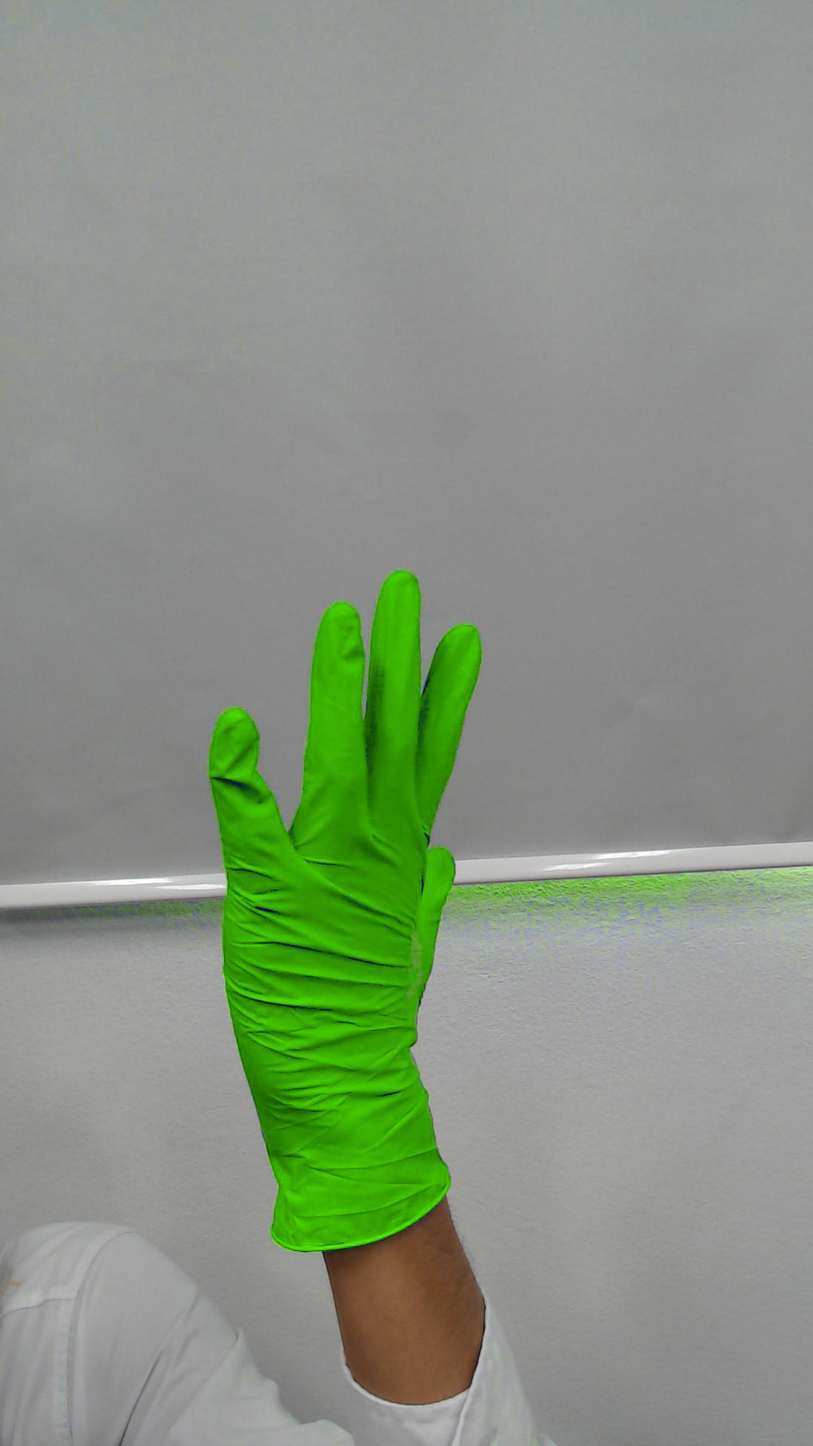gloves: (201, 554, 494, 1115)
